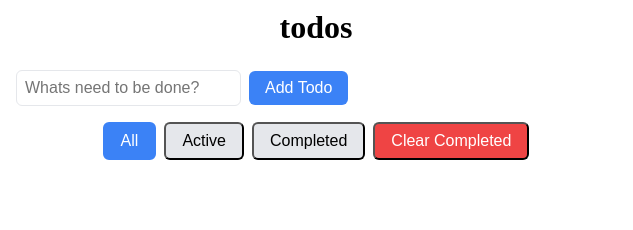
Scenario: App › clears completed todos
The image size is (633, 230).
In the field with placeholder "Whats need to be done?": (128, 88) top-left (16, 70), bottom-right (241, 106), type "Todo to be completed"
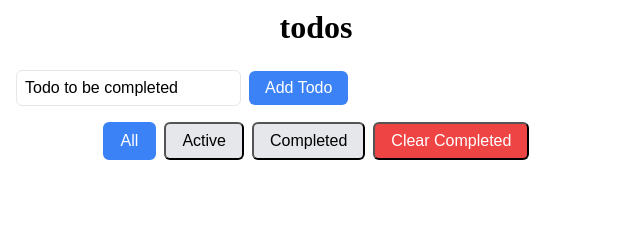
Click the button "Add Todo": (299, 88) top-left (249, 71), bottom-right (348, 105)
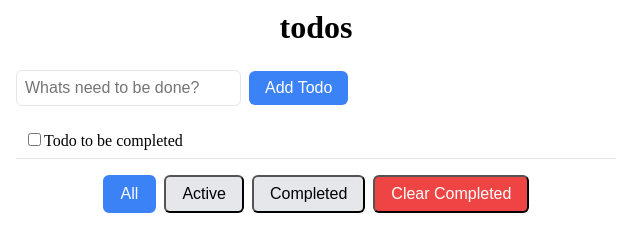
Click the checkbox: (34, 140) top-left (28, 133), bottom-right (41, 146)
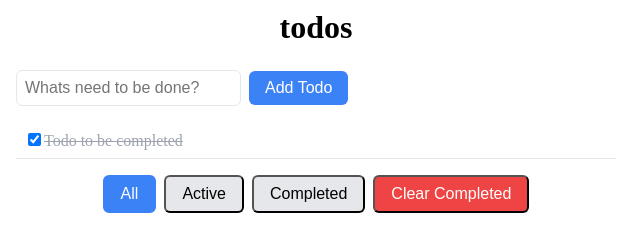
Click the button "Clear Completed": (451, 194) top-left (373, 175), bottom-right (529, 213)
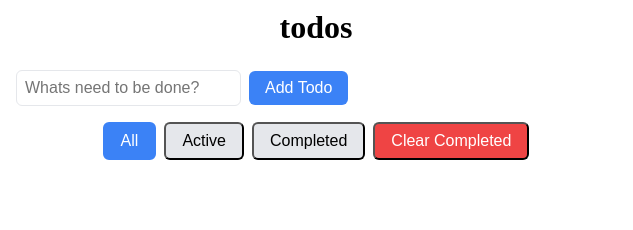
Expected: the text "Todo to be completed" is gone
